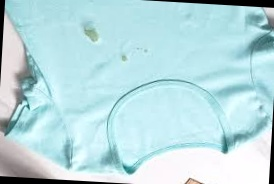mustard: (81, 22, 101, 43), (118, 54, 129, 68), (133, 47, 152, 54)
